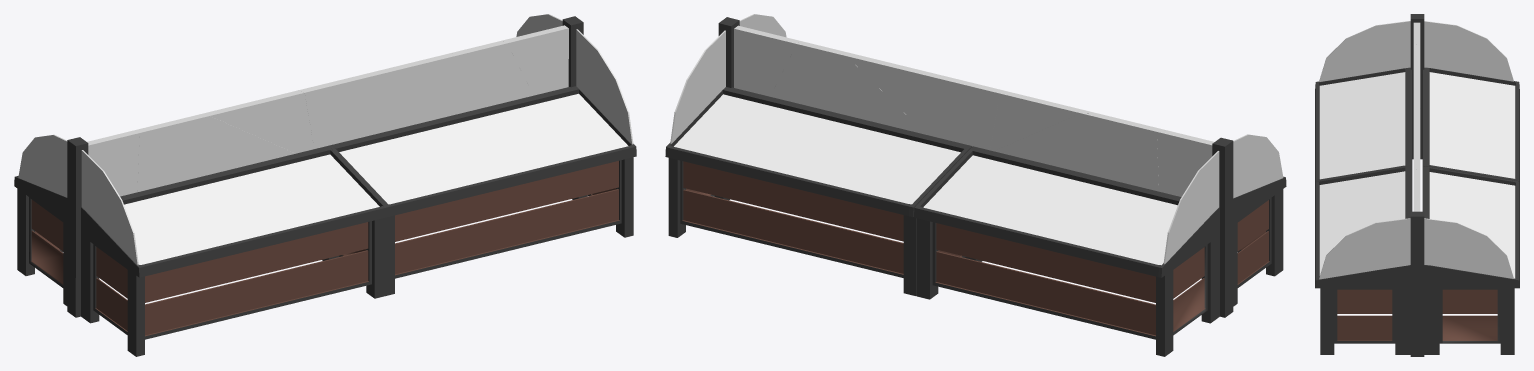
The model's file is veg shelf big.fbx.
3 views of the same model, side by side, from view 1: azimuth 30°, elevation 25°; view 2: azimuth 150°, elevation 25°; view 3: azimuth 270°, elevation 25° (orthographic). The views are drawn at different scales.
Visible parts, largest first — view 1: Cube.003, fracturedGlass.008, fracturedGlass.010, fracturedGlass.011, fracturedGlass.007, fracturedGlass.009, glassBigShelf.003, glassBigShelf.002, fracturedGlass.006, glassBigShelf.004, glassBigShelf; view 2: Cube.003, fracturedGlass.008, fracturedGlass.010, fracturedGlass.011, fracturedGlass.009, fracturedGlass.007, glassBigShelf.004, glassBigShelf, fracturedGlass.006, glassBigShelf.003, glassBigShelf.002; view 3: Cube.003, glassBigShelf.002, glassBigShelf.003, glassBigShelf.004, glassBigShelf, fracturedGlass.010, fracturedGlass.007, fracturedGlass.008, fracturedGlass.006, fracturedGlass.009.
Part boxes in pixels (<box>): Cube.003: <box>14,16,636,356</box>; fracturedGlass.008: <box>137,110,295,192</box>; fracturedGlass.010: <box>298,53,454,148</box>; fracturedGlass.011: <box>376,40,533,133</box>; fracturedGlass.007: <box>210,90,314,153</box>; fracturedGlass.009: <box>502,25,568,95</box>; glassBigShelf.003: <box>81,150,138,265</box>; glassBigShelf.002: <box>576,29,633,144</box>; fracturedGlass.006: <box>87,129,140,196</box>; glassBigShelf.004: <box>18,134,67,197</box>; glassBigShelf: <box>516,14,562,36</box>; Cube.003: <box>665,17,1286,356</box>; fracturedGlass.008: <box>994,113,1165,191</box>; fracturedGlass.010: <box>847,53,1001,150</box>; fracturedGlass.011: <box>770,41,925,134</box>; fracturedGlass.009: <box>734,25,799,96</box>; fracturedGlass.007: <box>990,90,1094,151</box>; glassBigShelf.004: <box>1163,151,1219,264</box>; glassBigShelf: <box>670,30,725,143</box>; fracturedGlass.006: <box>1157,130,1214,196</box>; glassBigShelf.003: <box>1233,134,1283,198</box>; glassBigShelf.002: <box>739,14,786,37</box>; Cube.003: <box>1315,14,1519,356</box>; glassBigShelf.002: <box>1319,218,1410,279</box>; glassBigShelf.003: <box>1319,21,1410,81</box>; glassBigShelf.004: <box>1424,21,1513,81</box>; glassBigShelf: <box>1424,218,1513,278</box>; fracturedGlass.010: <box>1413,108,1420,169</box>; fracturedGlass.007: <box>1413,72,1420,109</box>; fracturedGlass.008: <box>1413,44,1420,75</box>; fracturedGlass.006: <box>1413,22,1420,45</box>; fracturedGlass.009: <box>1413,189,1420,211</box>.
Size of the model in its own units: 2818 by 910 by 1204.
